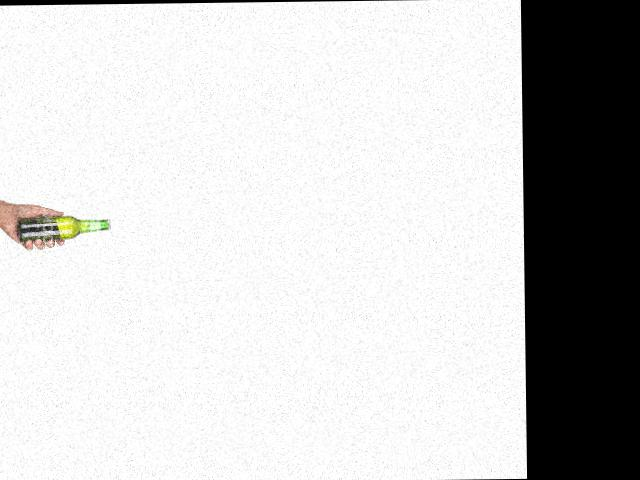beer: (17, 214, 111, 240)
